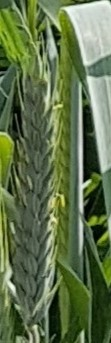Healthy Wheat: (14, 72, 62, 310)
